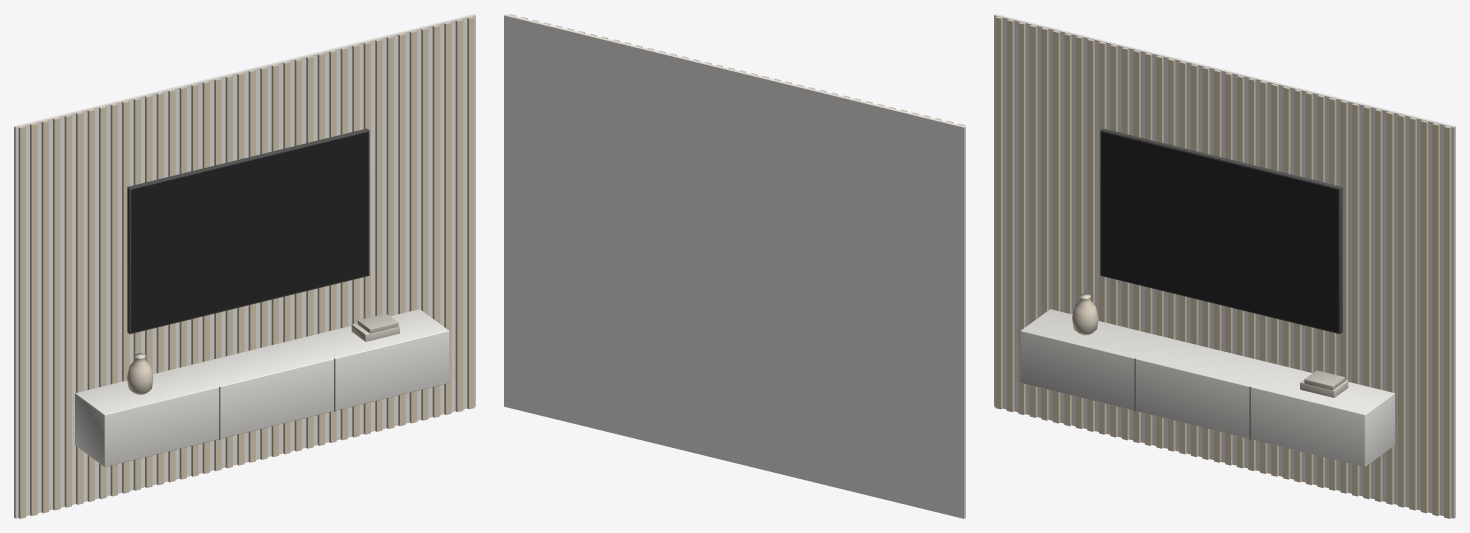
File: mo_media_wall.glb
3 renders of one model, left to right at view 1: azimuth 30°, elevation 25°; view 2: azimuth 150°, elevation 25°; view 3: azimuth 330°, elevation 25°, orthographic.
Visible parts, largest first — view 1: slats, backing, screen, cabinet, bezel, vase, book2; view 2: backing, slats; view 3: slats, backing, screen, cabinet, bezel, vase, book2.
Part boxes in pixels (x1,y1,x2,y2): slats: (18, 16, 474, 518); backing: (14, 14, 475, 518); screen: (131, 132, 368, 332); cabinet: (75, 309, 449, 466); bezel: (127, 128, 369, 333); vase: (127, 353, 153, 394); book2: (357, 313, 398, 333); backing: (504, 14, 965, 518); slats: (509, 14, 964, 125); slats: (995, 16, 1451, 518); backing: (994, 14, 1455, 518); screen: (1101, 132, 1338, 332); cabinet: (1020, 309, 1394, 466); bezel: (1100, 128, 1342, 333); vase: (1072, 293, 1098, 335); book2: (1304, 370, 1345, 390).
Bounding box in the file's own units: 3.2 × 2.6 × 0.403.
